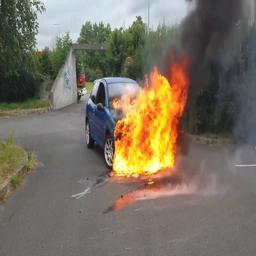fire: (113, 57, 188, 176)
